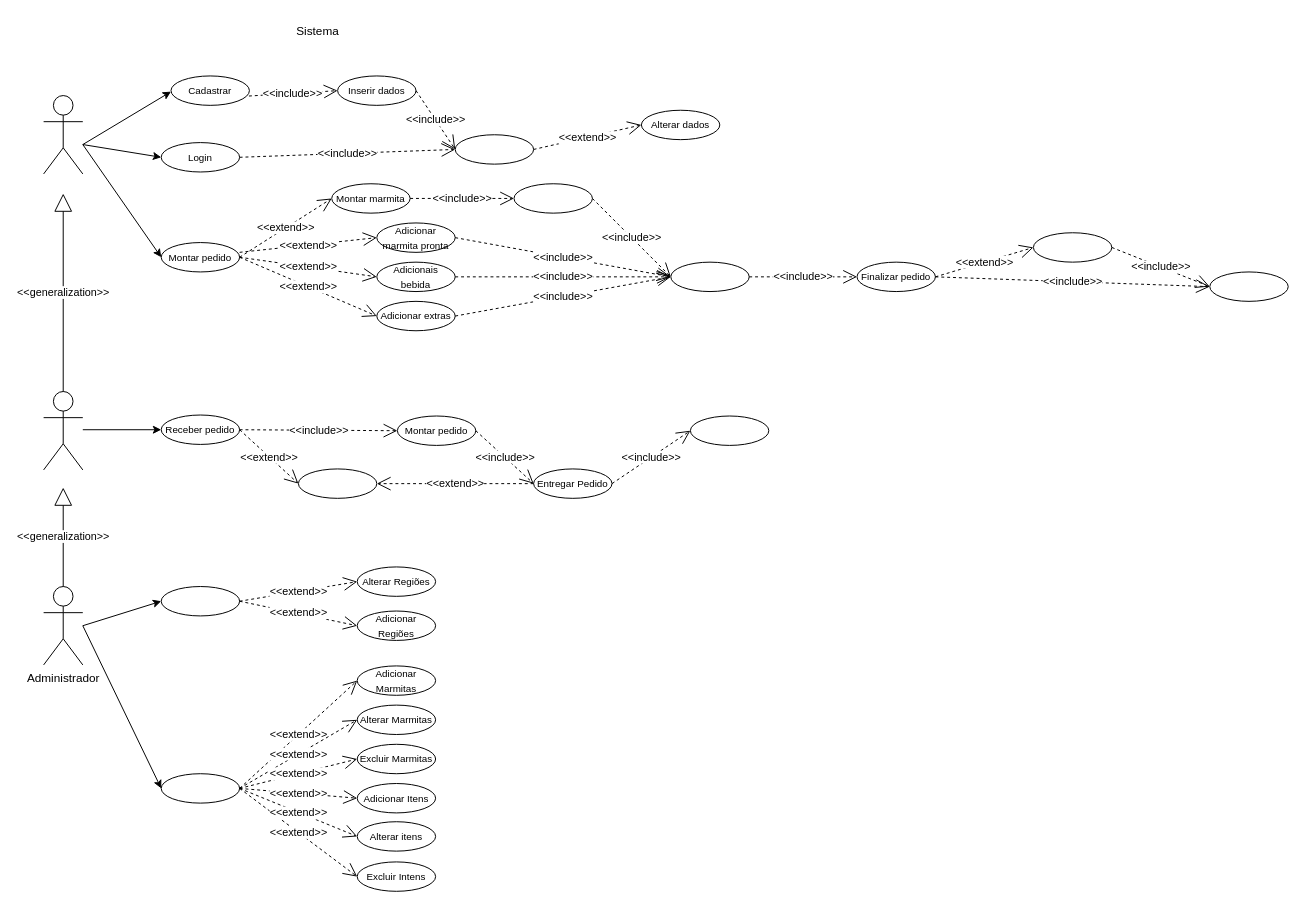
The diagram is 1305 pixels wide and 908 high, and some of its shapes have lost their labels. Each missing label, with the centre of its shape:
"Adicionar ao carrinho" goes at [709,276].
"Concluir Pedido" goes at [729,430].
"Entrar" goes at [494,149].
"Escolher itens (variações)" goes at [552,198].
"Escolher Pagamento" goes at [1248,286].
"Funcionário" goes at [63,430].
"Gerenciar itens" goes at [200,788].
"Gerenciar regiões" goes at [200,601].
"Receber pagamento" goes at [337,483].
"Usuário" goes at [63,134].
"Utilizar Cupom" goes at [1072,247].
